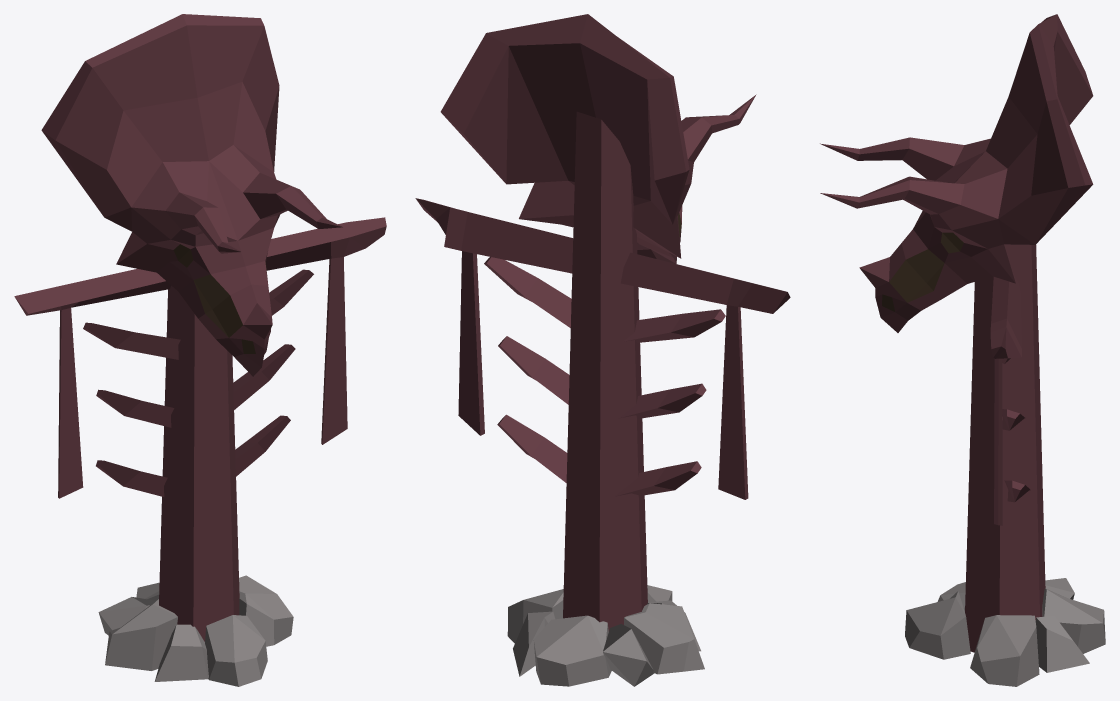
File: SM_Totem_Dinosaur_Tribal.fbx
The picture shows the model from 3 angles, left to right: view 1: azimuth 30°, elevation 25°; view 2: azimuth 150°, elevation 25°; view 3: azimuth 270°, elevation 25°; orthographic projection. The views are drawn at different scales.
Parts seen in each view (by area): view 1: SM_Totem_Dinosaur_Tribal; view 2: SM_Totem_Dinosaur_Tribal; view 3: SM_Totem_Dinosaur_Tribal.
Part boxes in pixels (bbox=[...]): SM_Totem_Dinosaur_Tribal: bbox=[14, 14, 386, 686]; SM_Totem_Dinosaur_Tribal: bbox=[415, 14, 790, 686]; SM_Totem_Dinosaur_Tribal: bbox=[820, 14, 1105, 686].
Bounding box in the file's own units: 2.41 × 3.95 × 1.65.
